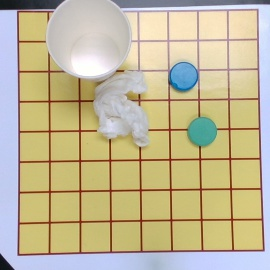blue: (169, 62, 199, 89)
cup: (47, 1, 131, 81)
green: (188, 117, 217, 148)
